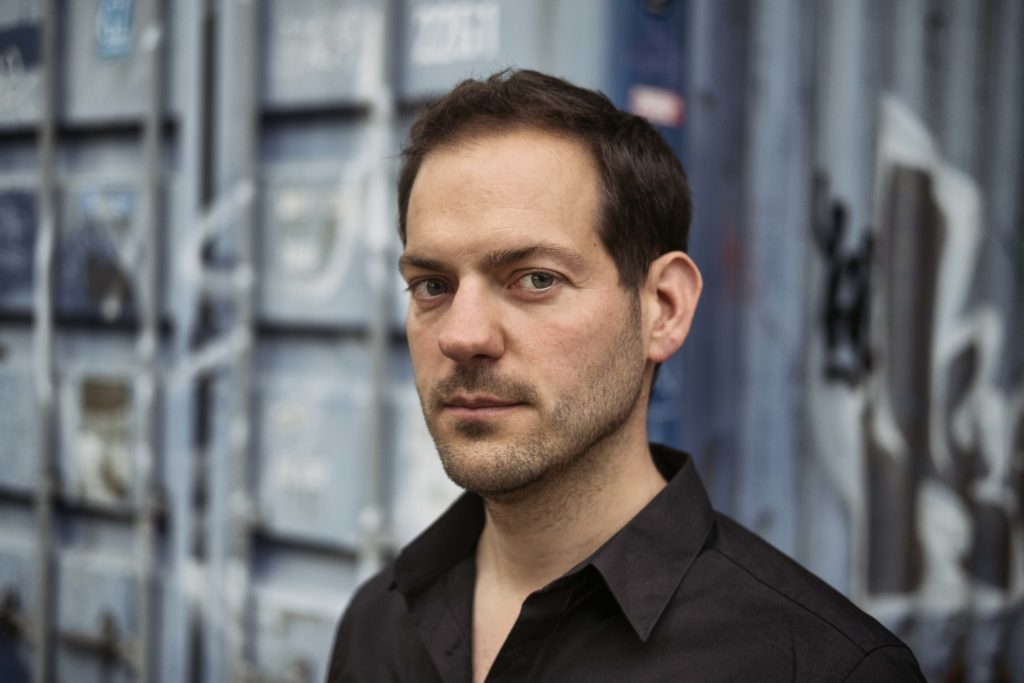Without Helmet: (385, 65, 707, 503)
